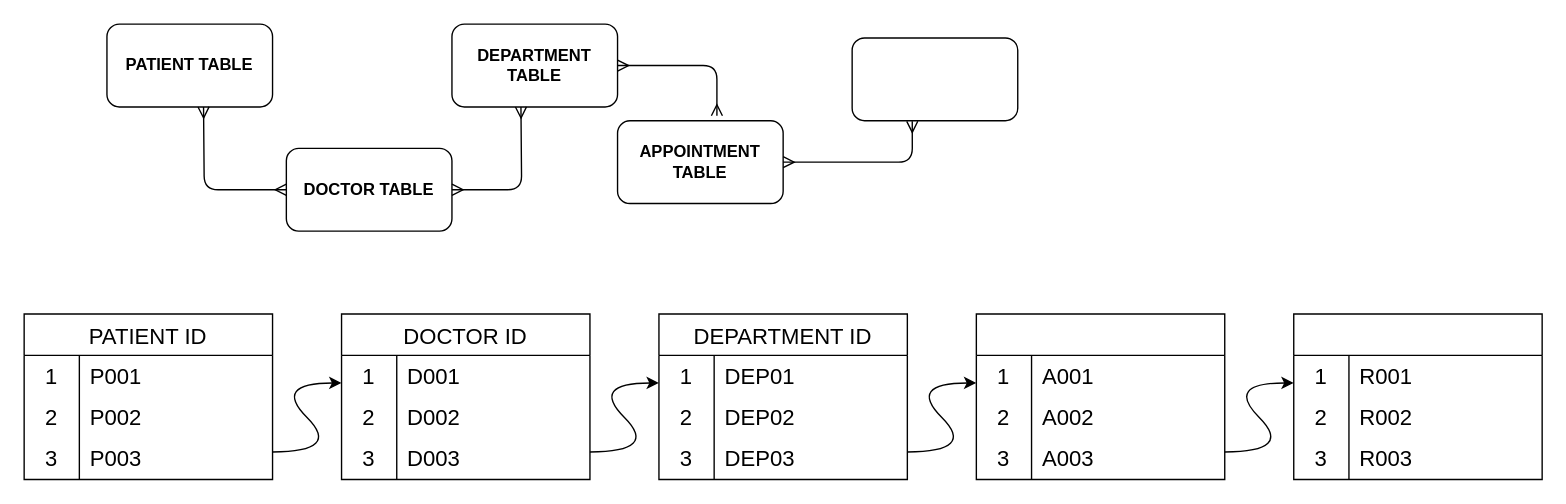
The diagram is 1566 pixels wide and 504 high, and some of its shapes have lost their labels. The shapes that lost their labels are listed below. From the top down, each one's box as (x1, y1, x2, y2) in pixels, then its label:
(851, 37, 1018, 121): ROOM TABLE
(975, 313, 1225, 480): APPOINTMENT ID
(1292, 313, 1542, 480): ROOM ID
